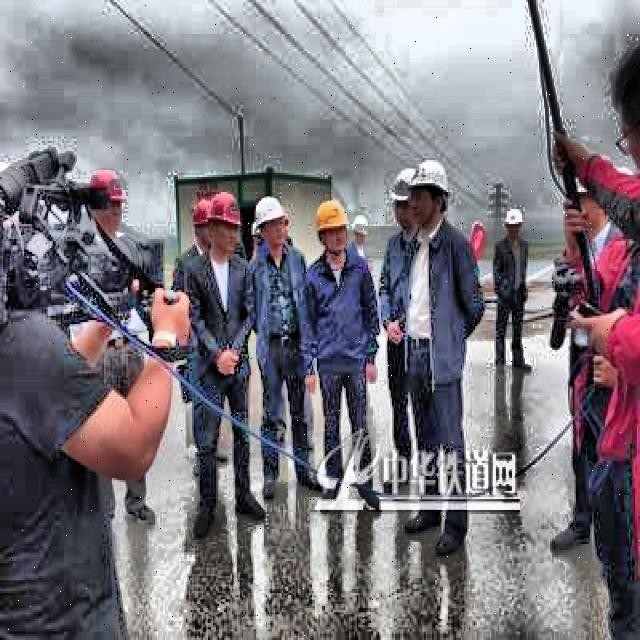helmet: (403, 158, 453, 228), (84, 167, 126, 234), (198, 190, 240, 256), (310, 196, 350, 262), (387, 166, 421, 232), (252, 192, 286, 254), (188, 192, 215, 252), (504, 202, 525, 250), (352, 214, 371, 252)
